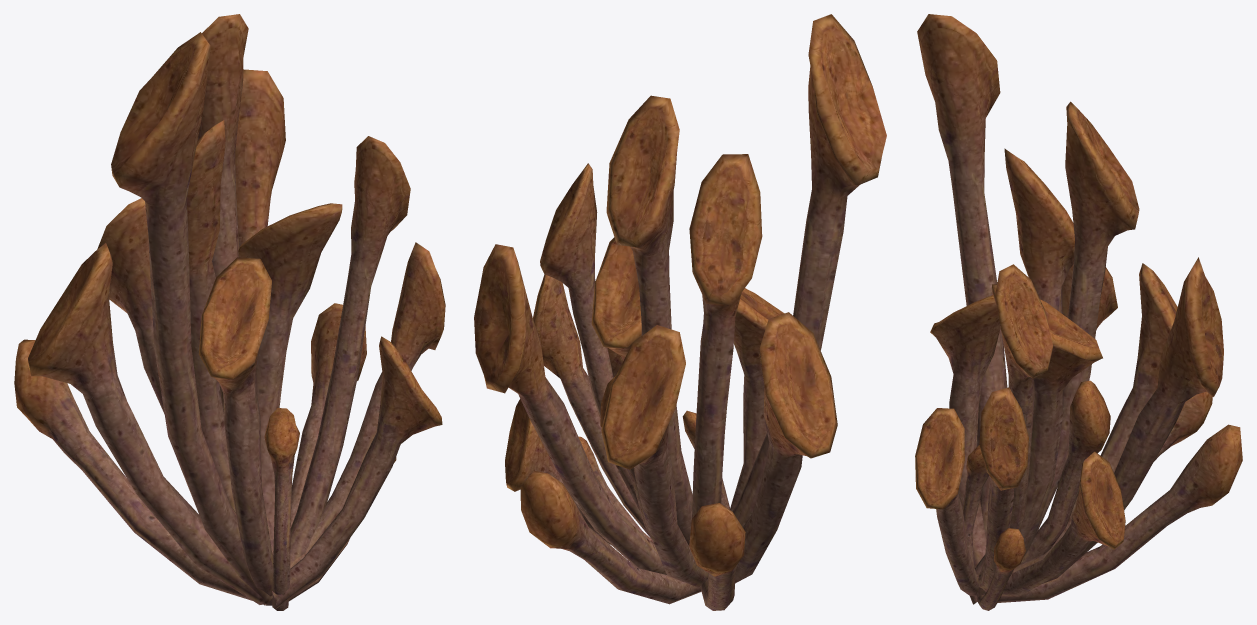
The model's file is Plant - Alien Shroom plant2 2-7s9z3QZJ.glb.
3 renders of one model, left to right at view 1: azimuth 30°, elevation 25°; view 2: azimuth 150°, elevation 25°; view 3: azimuth 270°, elevation 25°, orthographic. The views are drawn at different scales.
Parts seen in each view (by area): view 1: Shroom_Plant2_2_L0(Clone); view 2: Shroom_Plant2_2_L0(Clone); view 3: Shroom_Plant2_2_L0(Clone).
Part boxes in pixels (<box>): Shroom_Plant2_2_L0(Clone): <box>14,14,445,610</box>; Shroom_Plant2_2_L0(Clone): <box>474,14,886,610</box>; Shroom_Plant2_2_L0(Clone): <box>915,14,1242,610</box>.
Bounding box in the file's own units: 0.8027 × 1.3 × 0.7082.
1 material, 1 textured.
